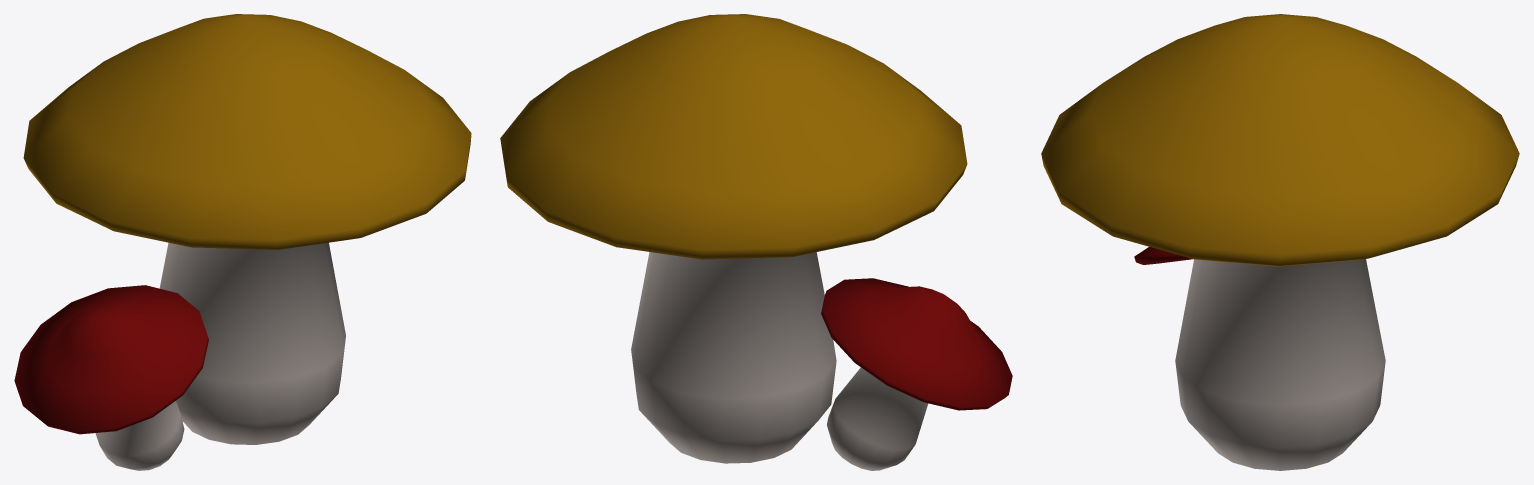
File: mushroomdouble.fbx
3 renders of one model, left to right at view 1: azimuth 30°, elevation 25°; view 2: azimuth 150°, elevation 25°; view 3: azimuth 270°, elevation 25°, orthographic. The views are drawn at different scales.
Visible parts, largest first — view 1: Double mushrooms; view 2: Double mushrooms; view 3: Double mushrooms.
Part boxes in pixels (left/top/right/bottom): Double mushrooms: left=14, top=14, right=471, bottom=470; Double mushrooms: left=500, top=14, right=1012, bottom=470; Double mushrooms: left=1041, top=14, right=1519, bottom=470.
Size of the model in its own units: 253 by 230 by 229.
